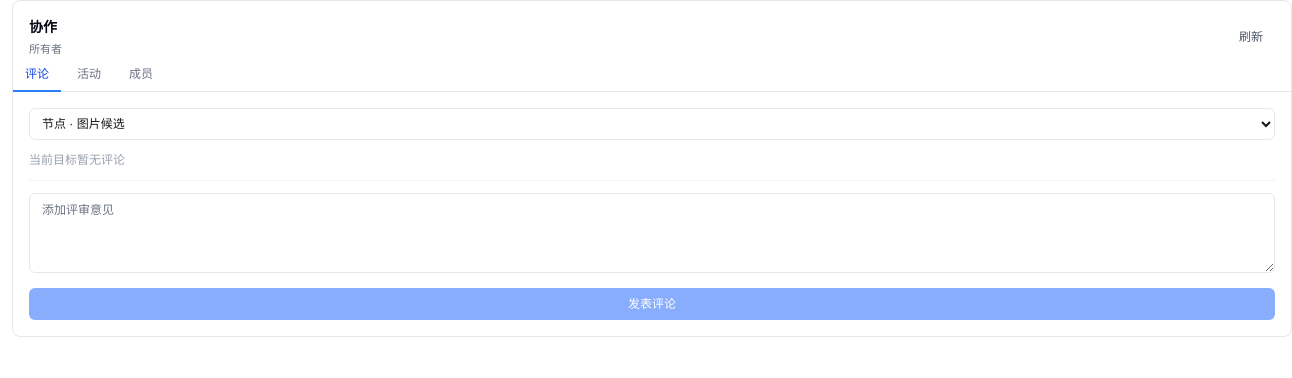
Test case: ProductionCanvasCollaborationPanel › comments on canvas identities and manages collaborators
Check: the text "所有者" is shown, box x1=29 y1=41 x2=62 y2=58
Select "图片候选 · #81" in the dropdown named "评论目标" at [652, 124], box x1=29 y1=108 x2=1275 y2=140
Type "保留角色一致性" into the text box named "协作评论" at [652, 232], box x1=29 y1=192 x2=1275 y2=272
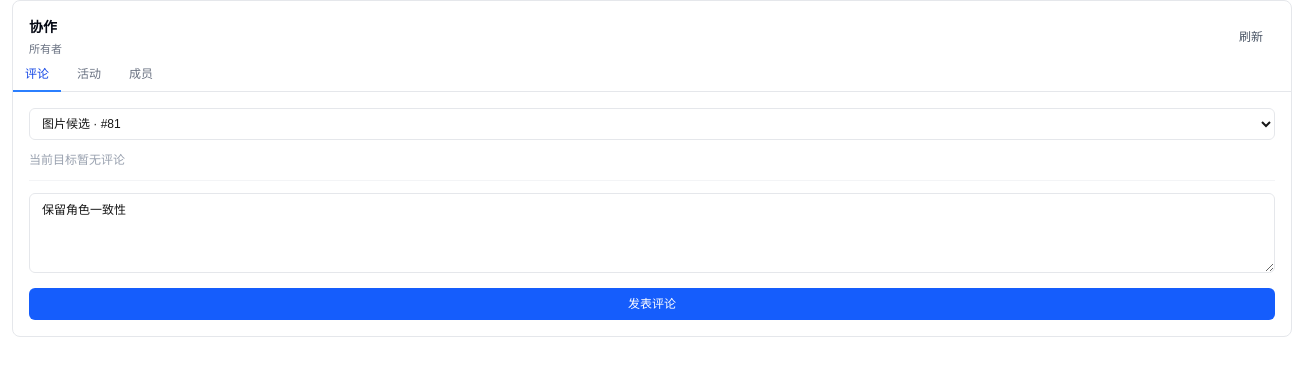
Click the button "发表评论" at [652, 304], box x1=29 y1=288 x2=1275 y2=320
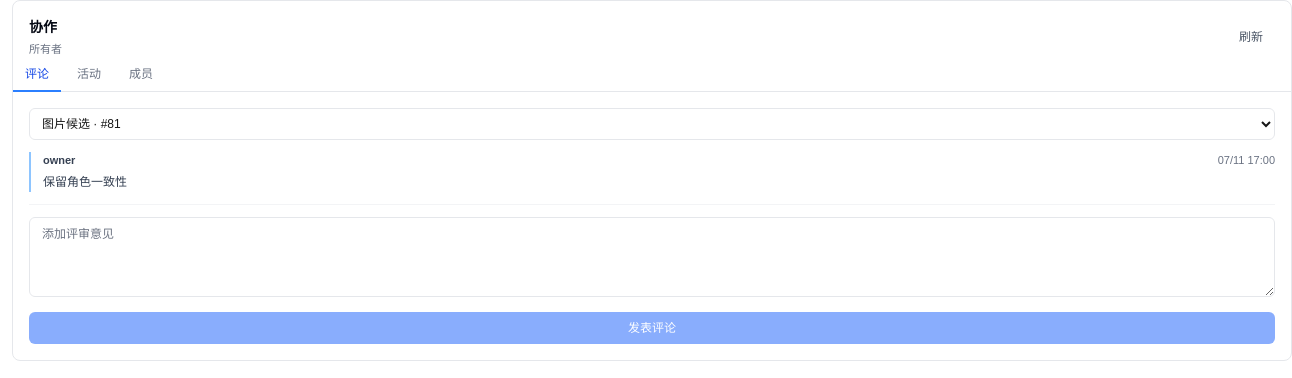
Check: the text box "保留角色一致性" is shown, box x1=29 y1=217 x2=1275 y2=297
Click the button "成员" at [141, 74], box x1=117 y1=58 x2=165 y2=92
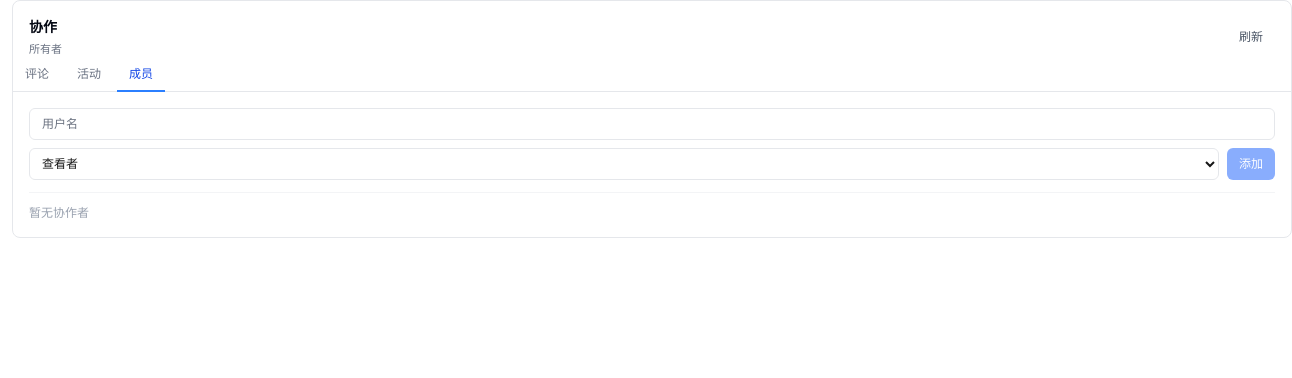
Type "reviewer" into the field named "协作者用户名" at [652, 124], box x1=29 y1=108 x2=1275 y2=140
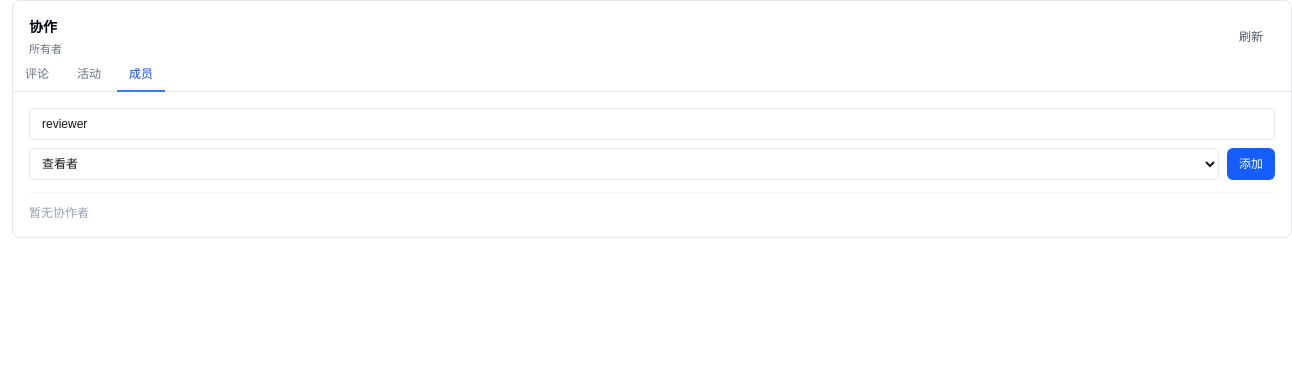
Select "审批者" in the dropdown named "协作者角色" at [624, 164], box x1=29 y1=148 x2=1219 y2=180
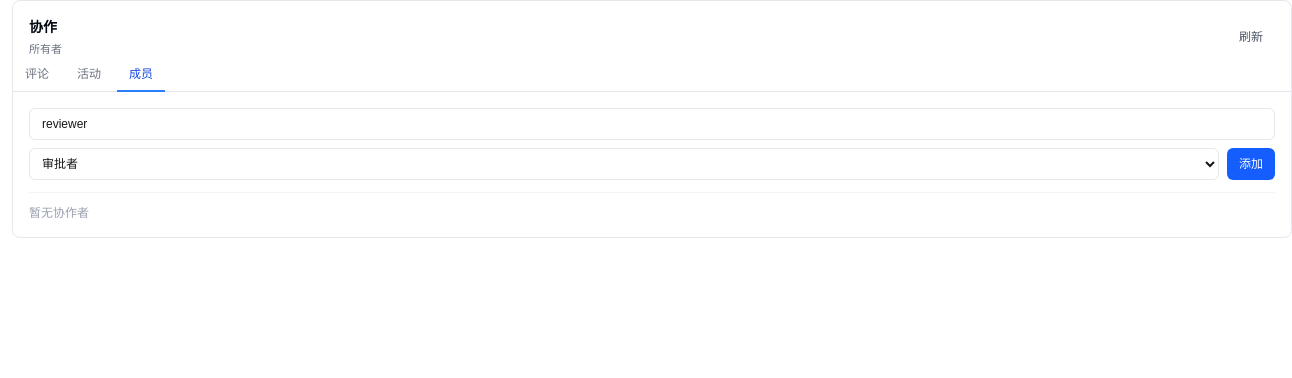
Click the button "添加" at [1251, 164], box x1=1227 y1=148 x2=1275 y2=180
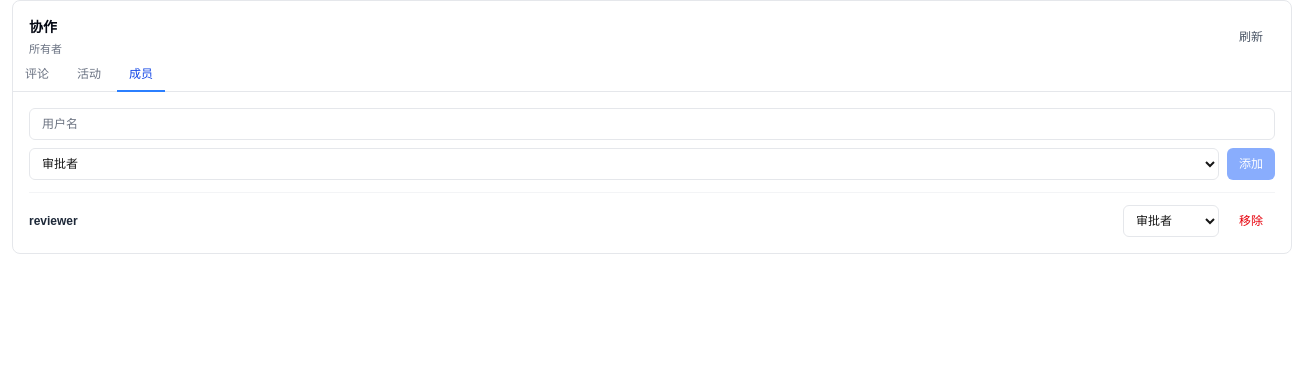
Check: the text "reviewer" is shown, box x1=29 y1=214 x2=78 y2=228
